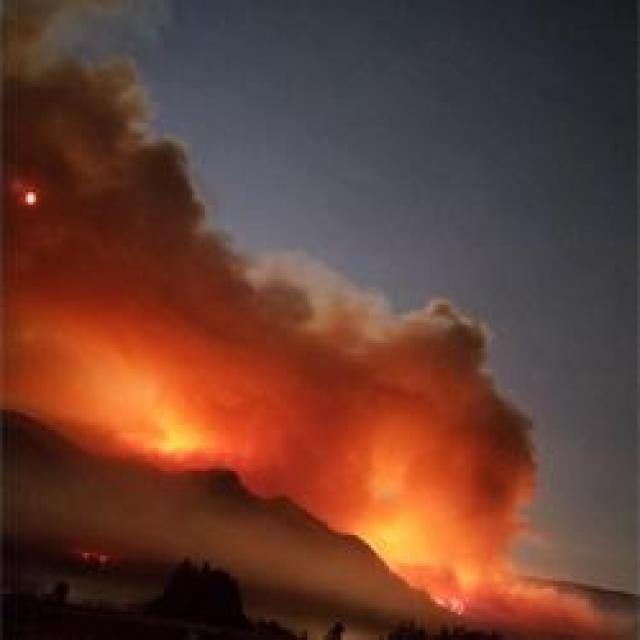fire: (329, 472, 529, 630), (99, 370, 244, 485)
